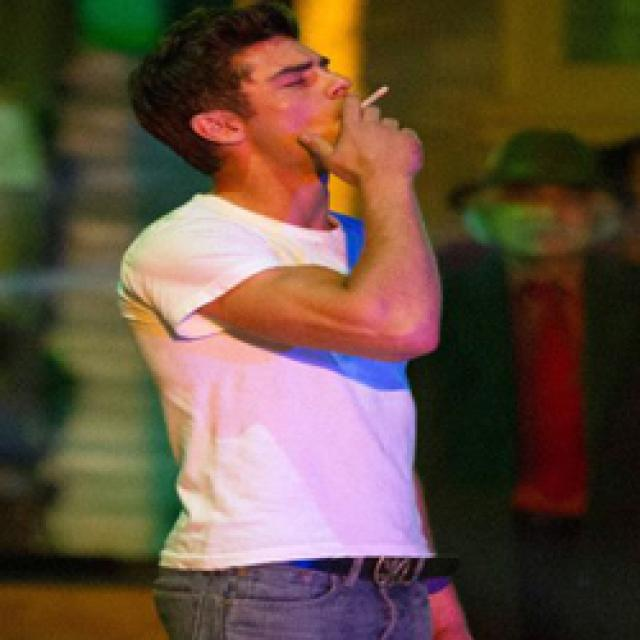Smooking: (356, 76, 397, 112)
